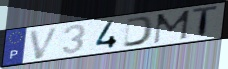3: (61, 23, 90, 56)
4: (94, 19, 120, 50)
D: (121, 15, 155, 49)
M: (151, 9, 192, 46)
T: (191, 5, 219, 40)
V: (28, 25, 62, 61)
